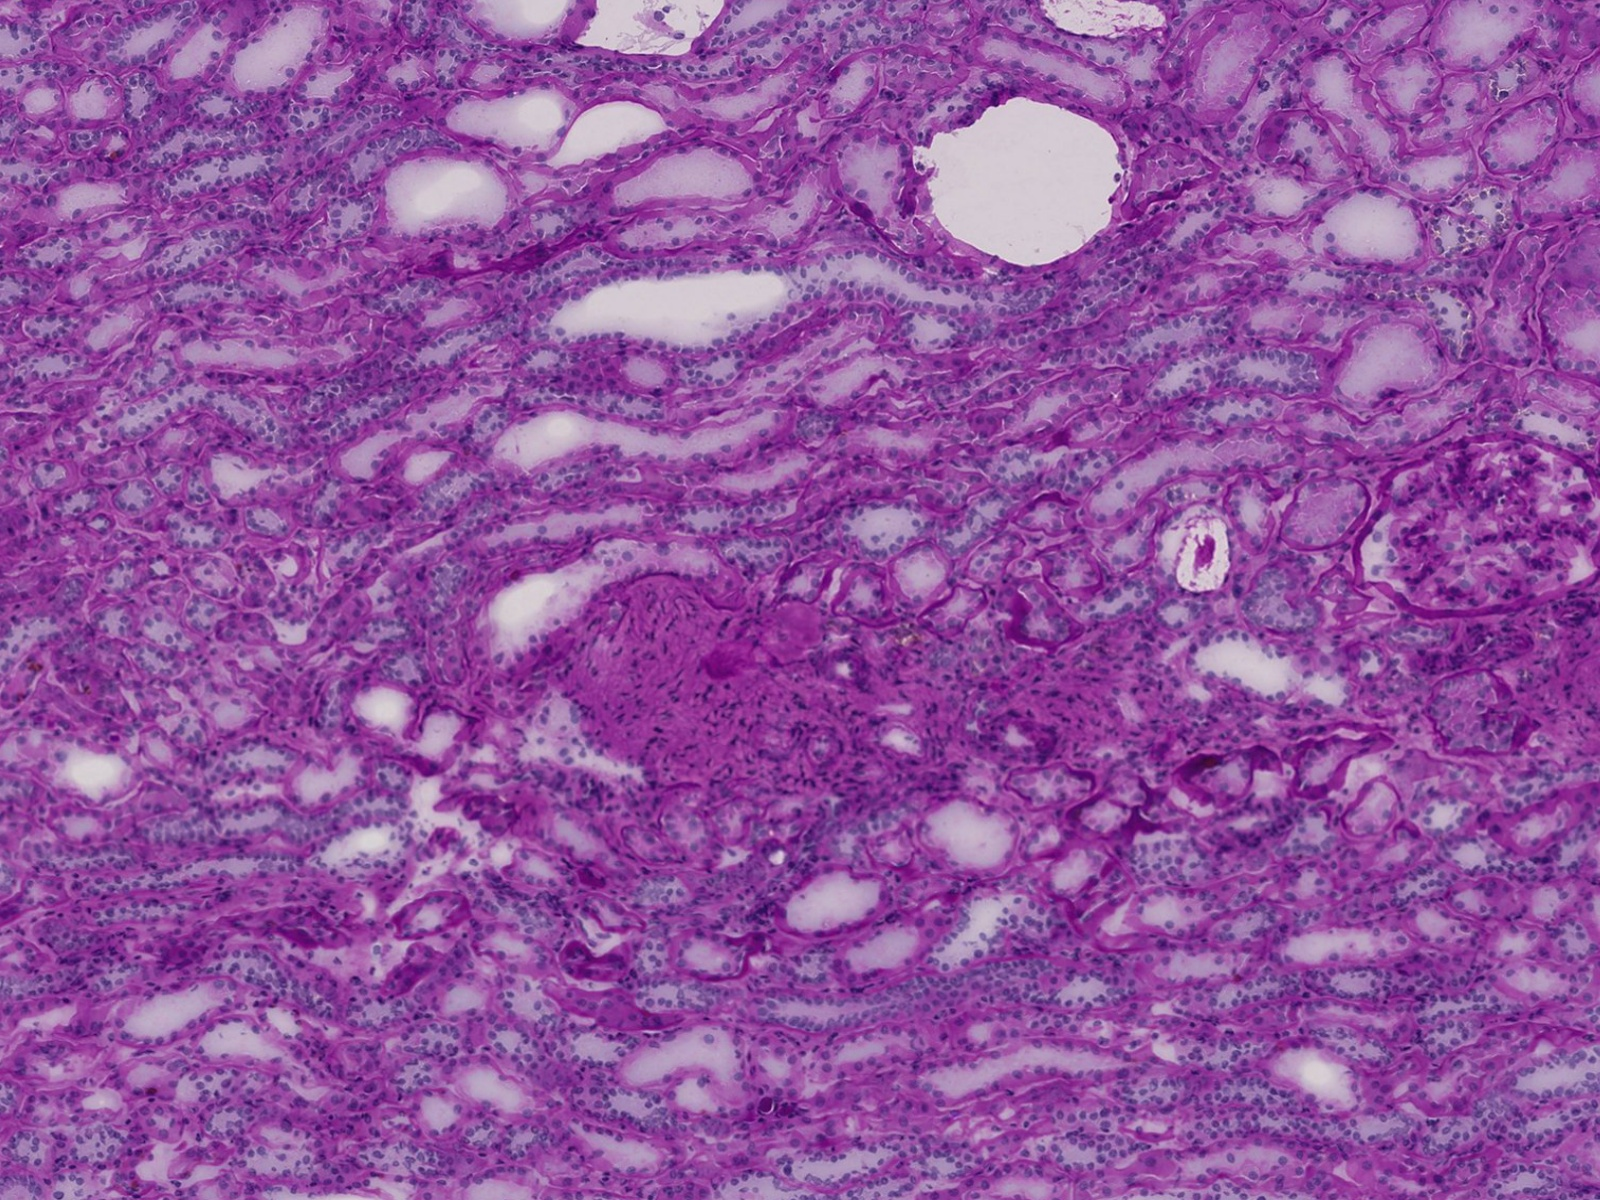Glomeruli: (1348, 429, 1600, 615)
